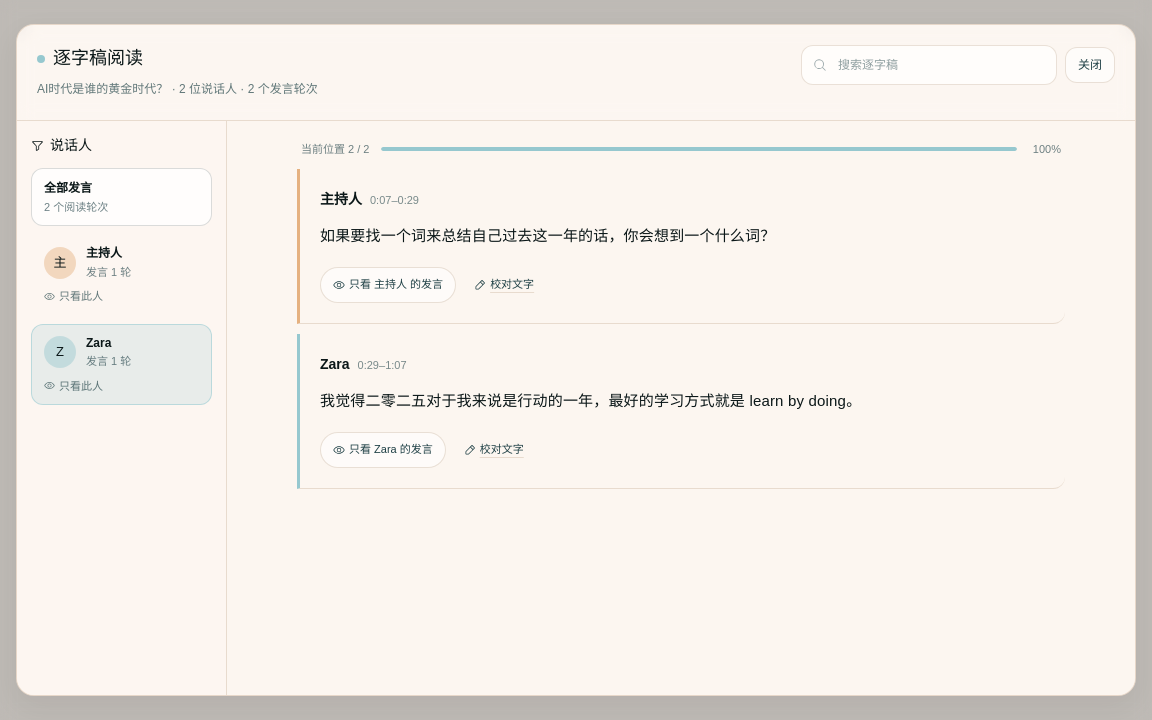
Test: TranscriptConversationModal › 悬浮发言时同步强调发言、说话人与当前定位
The width and height of the screenshot is (1152, 720).
Hover over the element named "发言 2，Zara，0:29 到 1:07" at (681, 411), box top-left (297, 334), bottom-right (1065, 488)
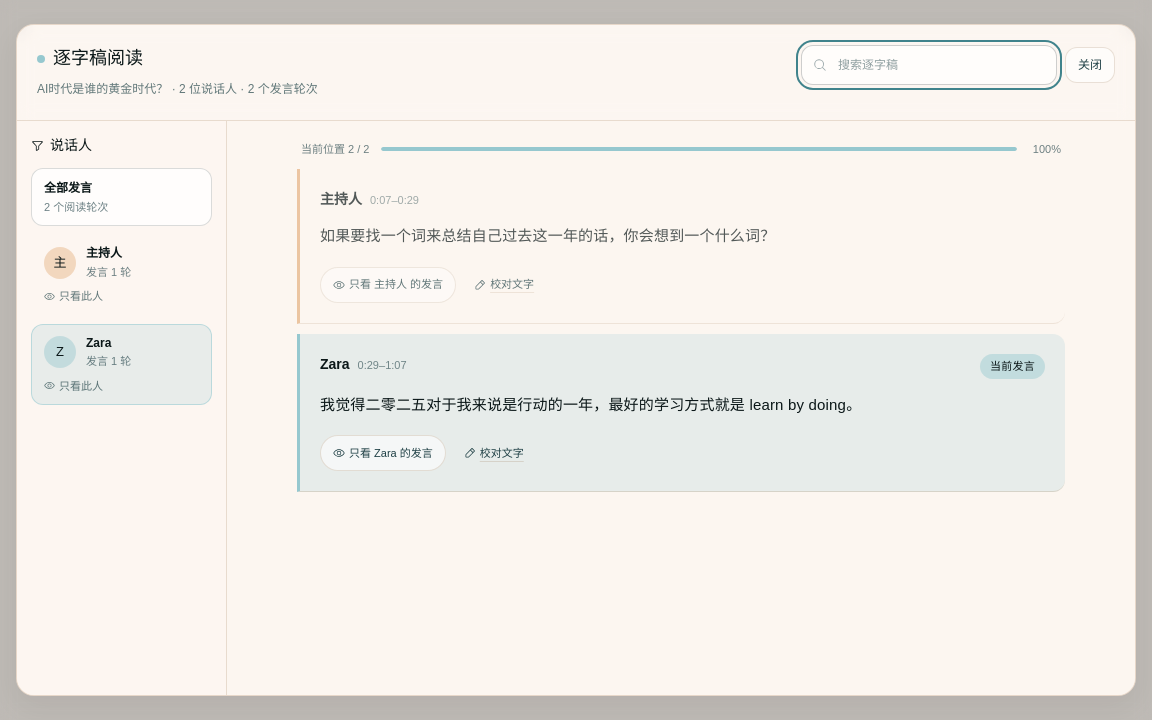
Now the text "当前发言" is shown, box top-left (980, 354), bottom-right (1045, 378)
